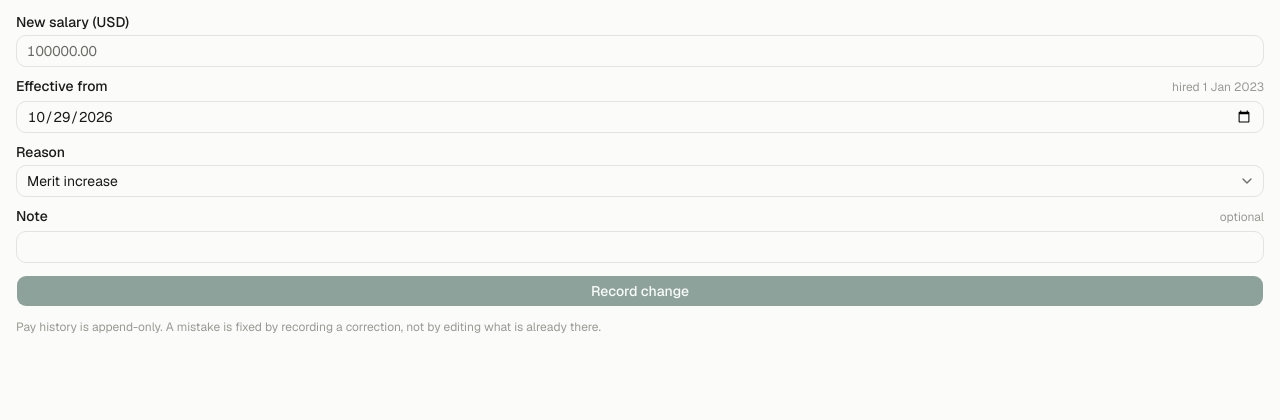
Test: PayChangeForm › uses a cents-aware number input and submits a valid pay change
Step 1. Type "110000.00" into the number field labelled "New salary (USD)" → {"x": 640, "y": 51}, box [16, 35, 1264, 67]
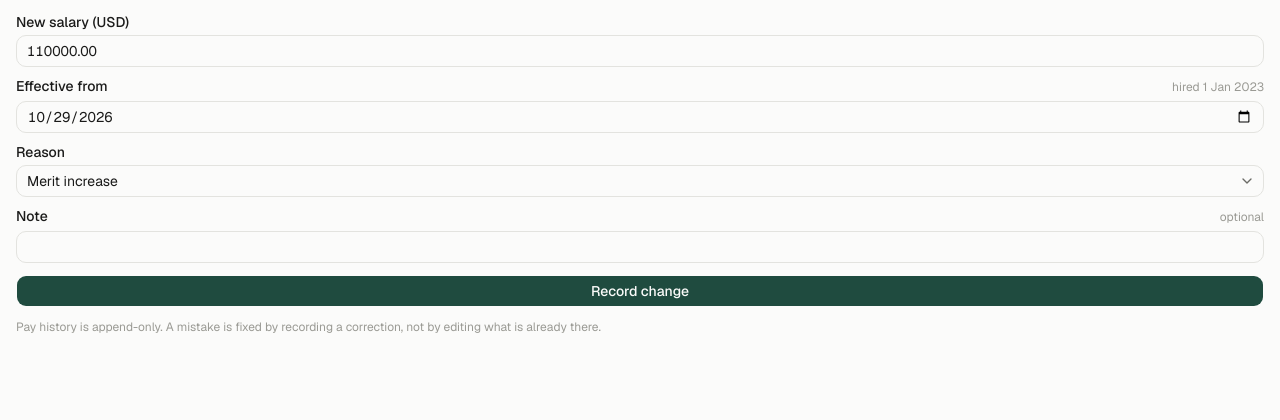
Step 2. Click the button "Record change" → {"x": 640, "y": 291}, box [16, 275, 1264, 307]
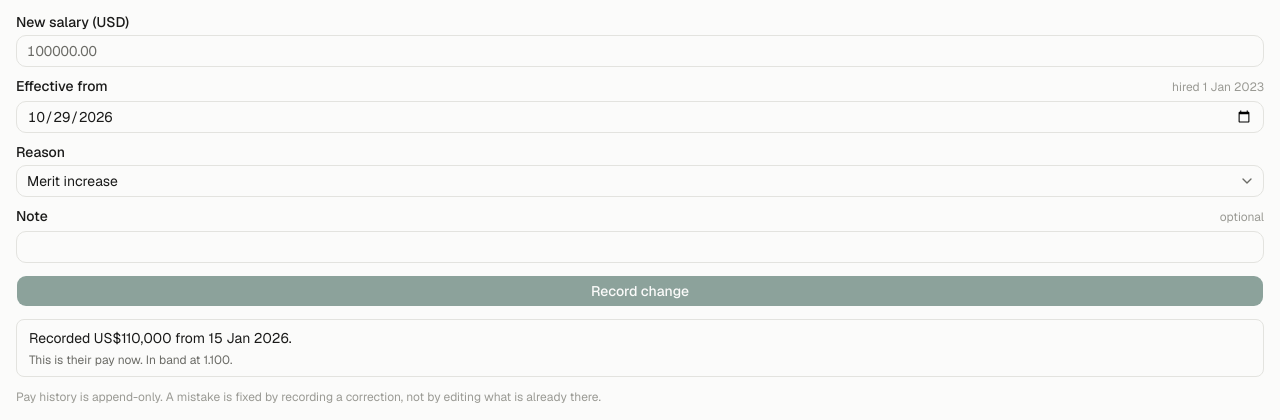
Expected: the message shows "This is their pay now.", [29, 352, 143, 368]
